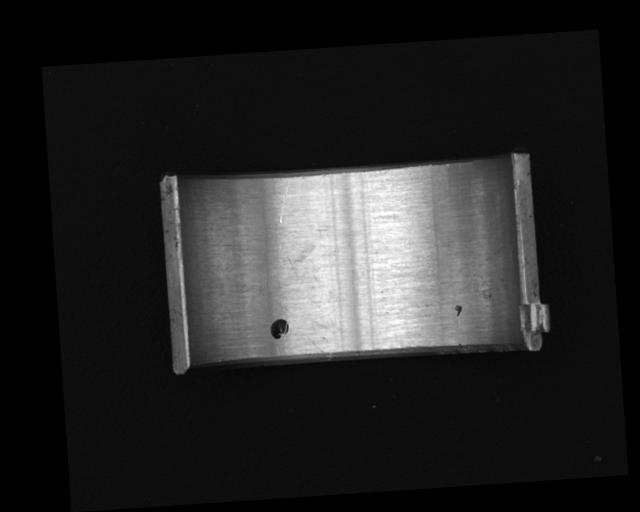blot: (269, 237, 319, 291), (269, 317, 290, 340)
bruise: (453, 302, 463, 317)
nick: (275, 182, 293, 224)
